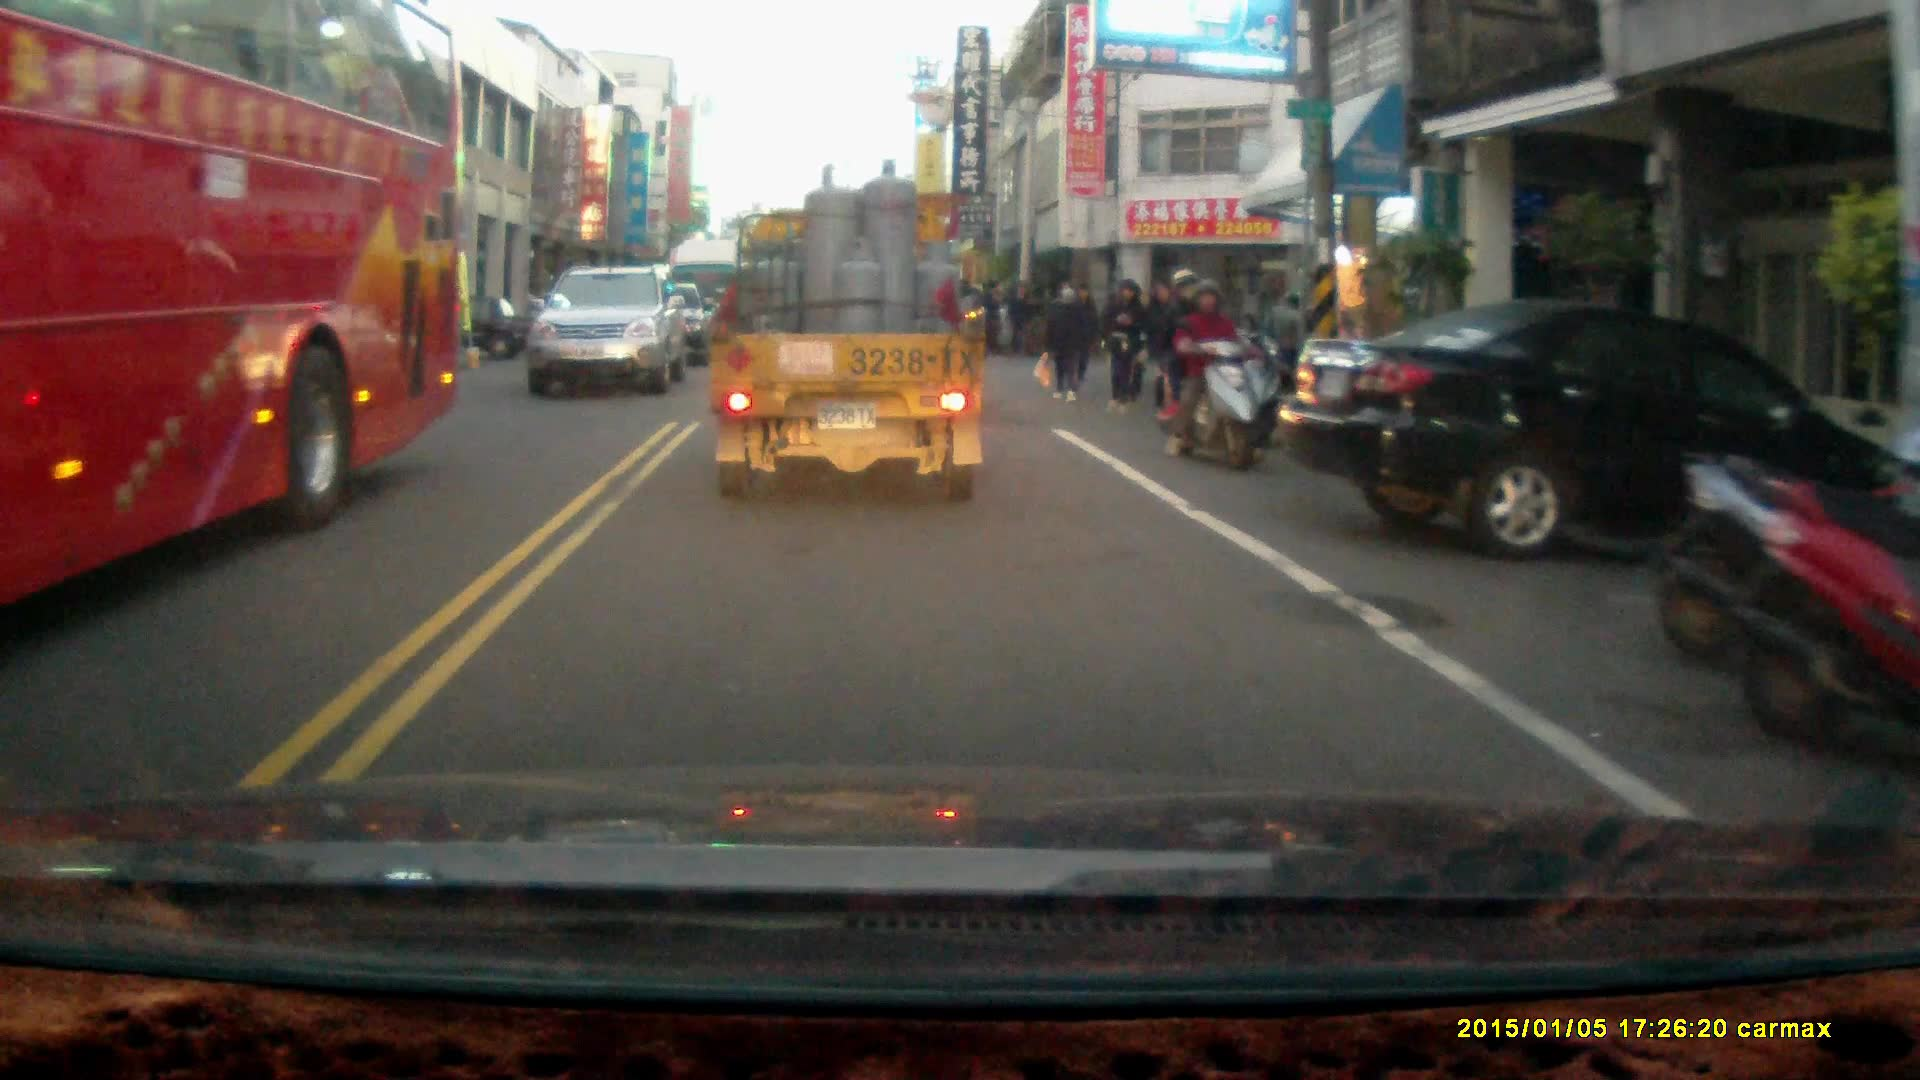pedestrian: (1144, 278, 1192, 415), (1107, 275, 1147, 413), (1040, 276, 1084, 402), (1004, 275, 1033, 358), (976, 276, 1003, 357)
rider: (1152, 265, 1252, 465)
vehicle: (1, 7, 468, 613), (1286, 302, 1920, 560), (711, 158, 992, 503), (525, 267, 683, 404)
